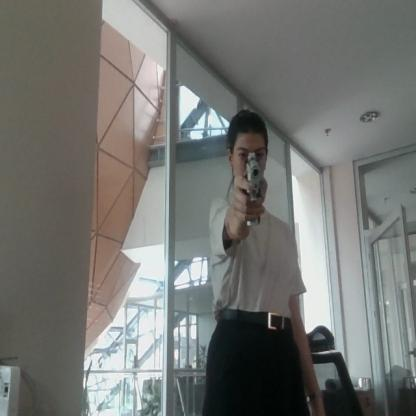handgun: (240, 148, 288, 241)
